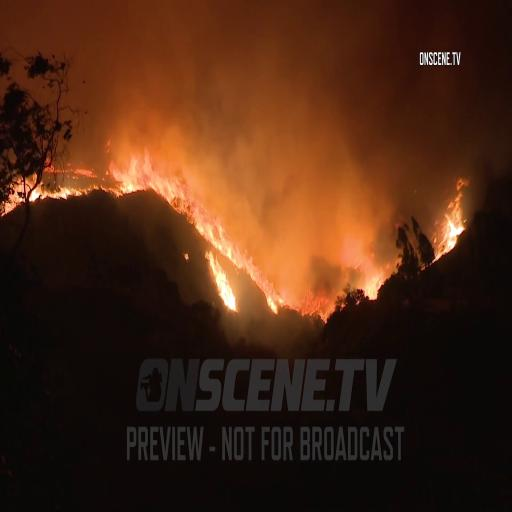fire: (110, 141, 191, 212), (193, 190, 239, 311), (434, 177, 471, 260), (285, 281, 338, 321)
